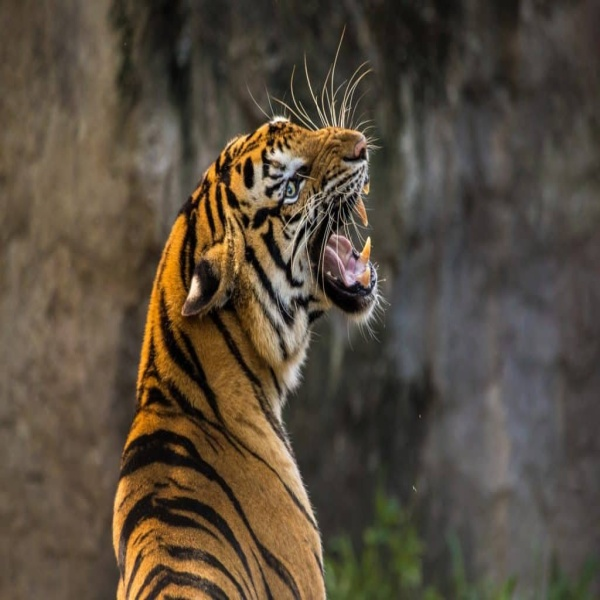Tiger: (107, 65, 392, 600)
